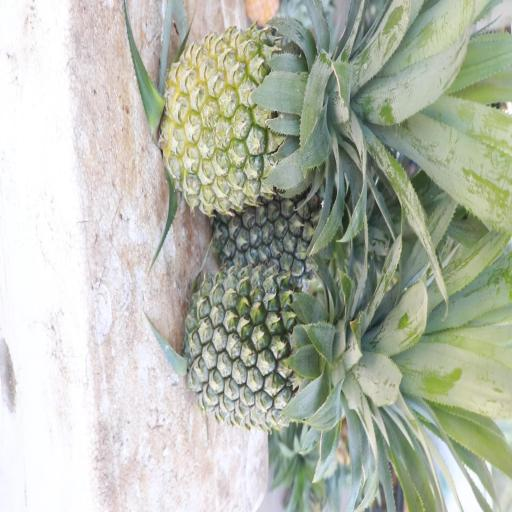Pineapple - v8 v1: (166, 28, 345, 213)
